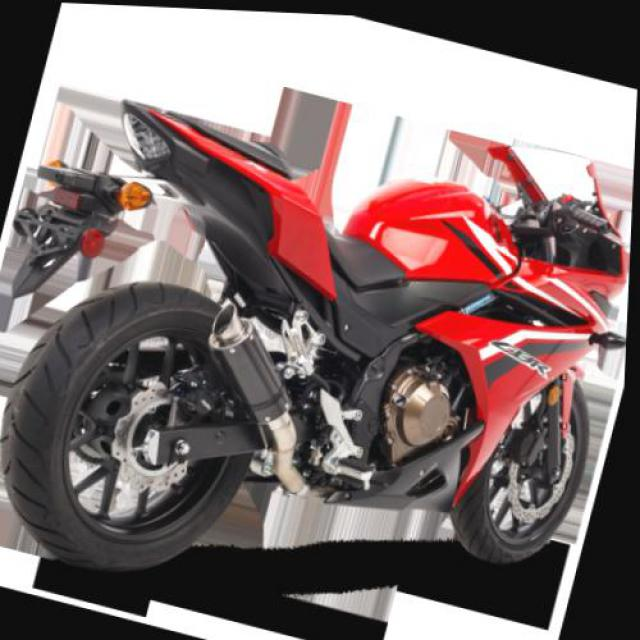CBR500R: (0, 24, 639, 639)
